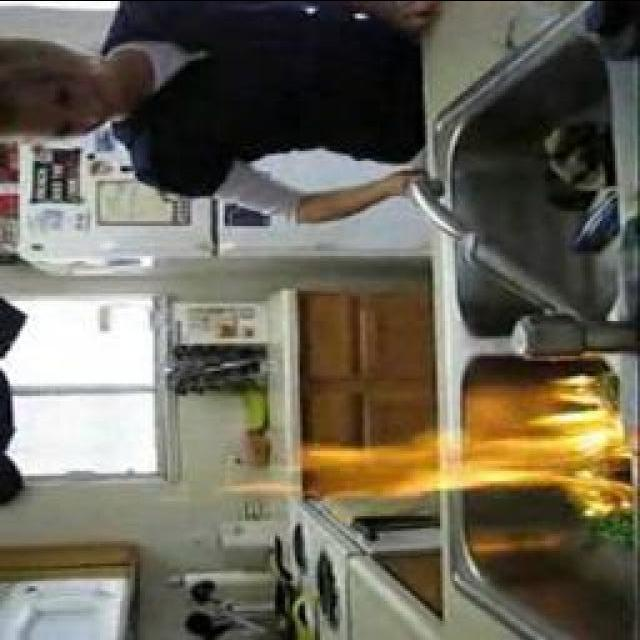Fire: (245, 378, 629, 516)
